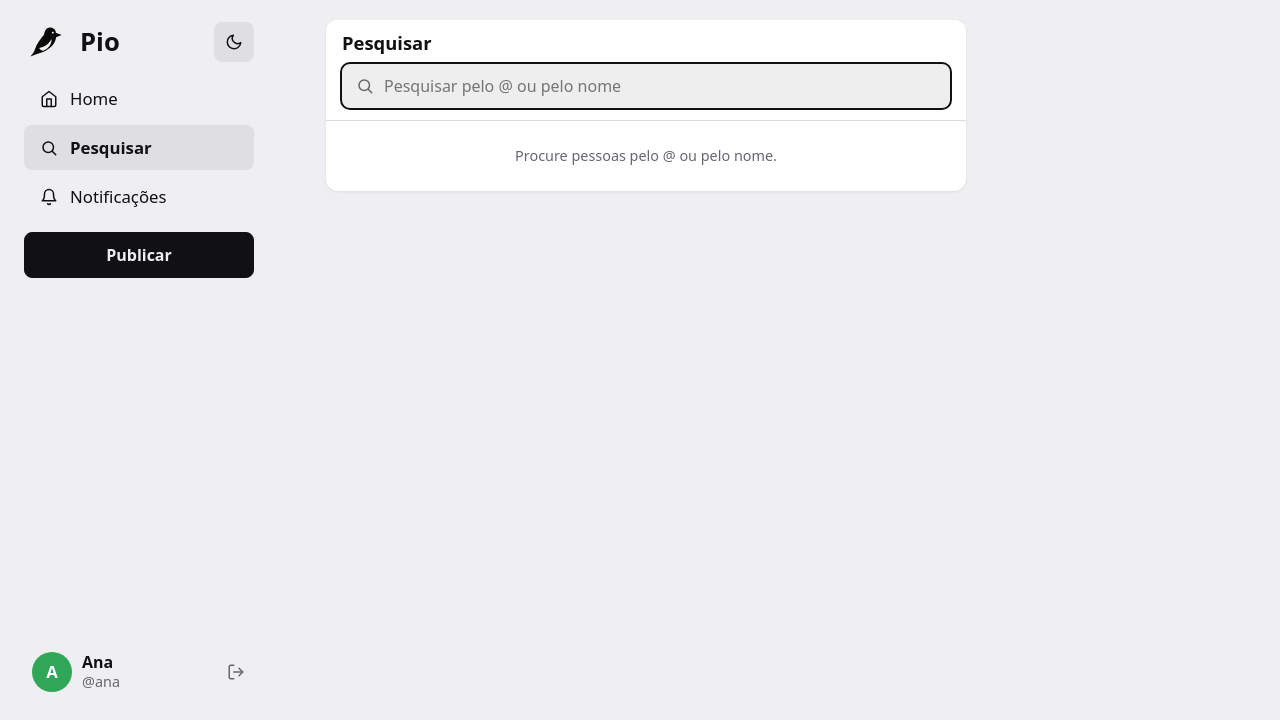
Test case: barra lateral: pesquisa e perfil › sem resultado, avisa quem foi procurado; apagar o campo volta à dica
In the search field named "Pesquisar pessoas": (660, 86) top-left (384, 64), bottom-right (936, 108), type "zzz"
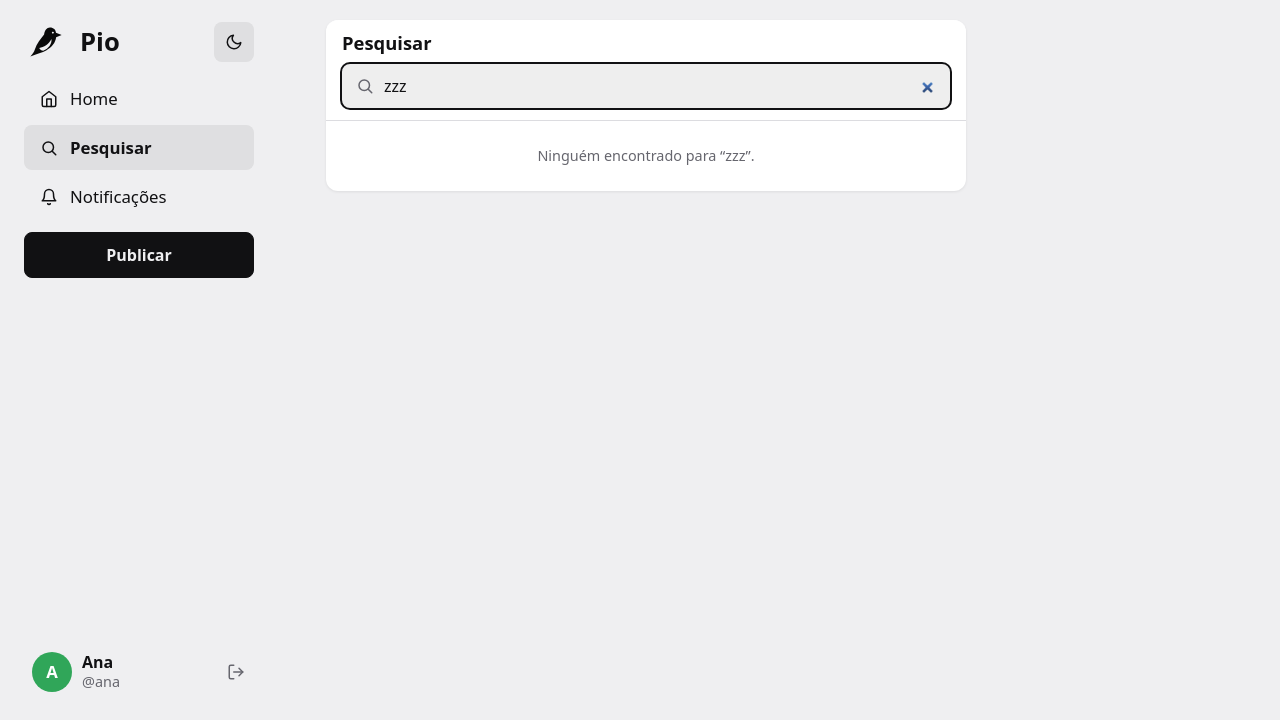
Expected: the text "Ninguém encontrado para “zzz”." is shown, top-left (537, 146), bottom-right (755, 165)
Clear the search field named "Pesquisar pessoas": (660, 86) top-left (384, 64), bottom-right (936, 108)
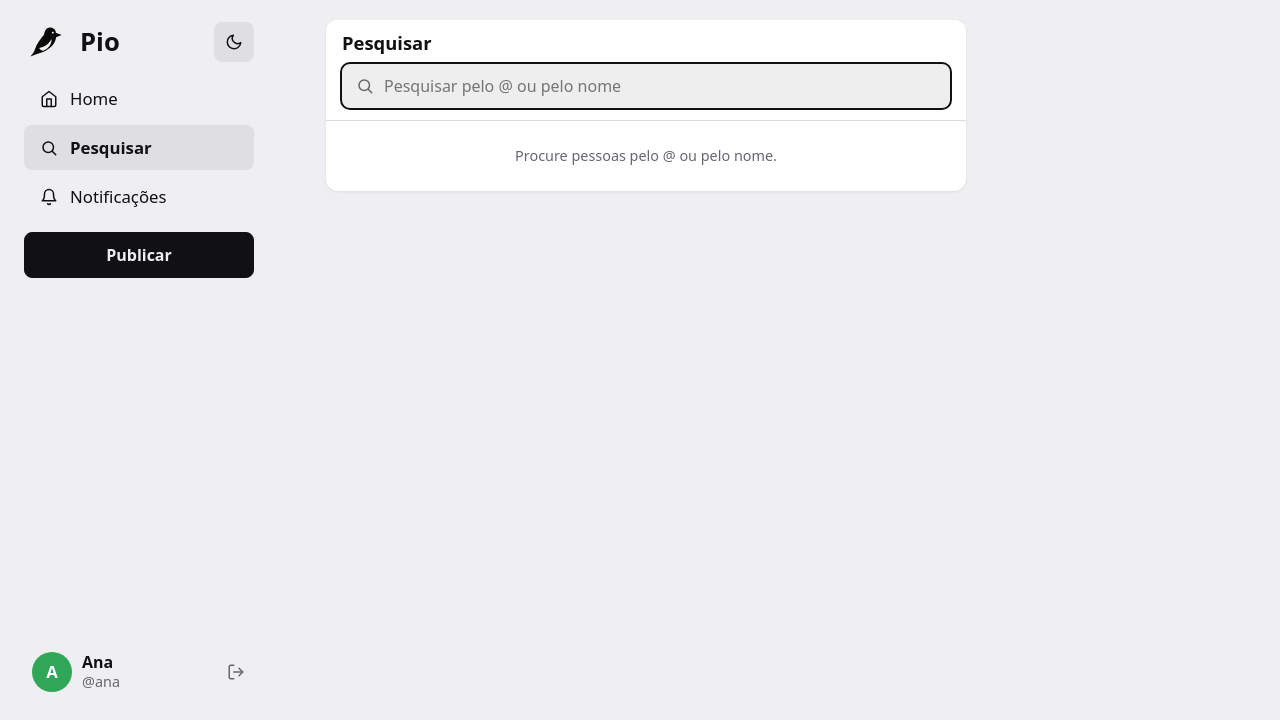
Expected: the text "Procure pessoas pelo @ ou pelo nome." is shown, top-left (515, 146), bottom-right (777, 165)
